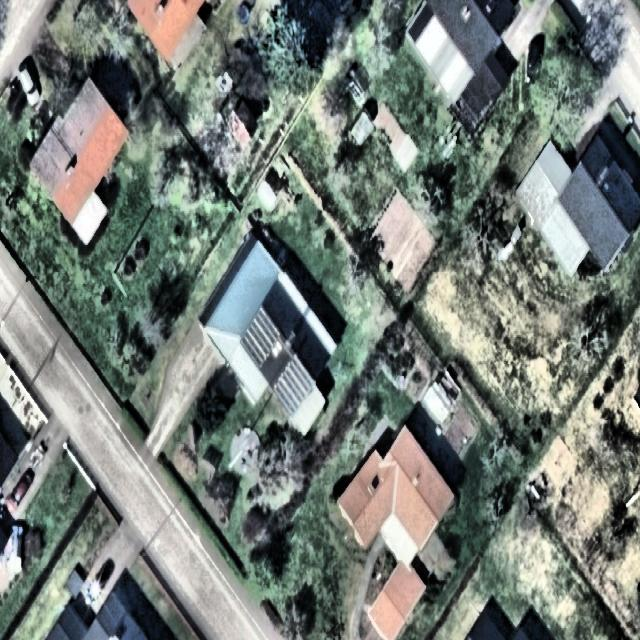roof_pv: (274, 357, 316, 418), (242, 304, 284, 364)
